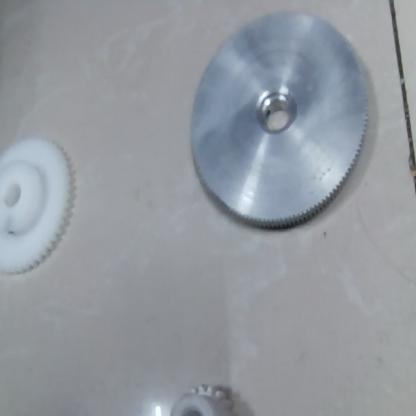FOD: (188, 12, 378, 232), (0, 136, 76, 281), (163, 369, 246, 415)
